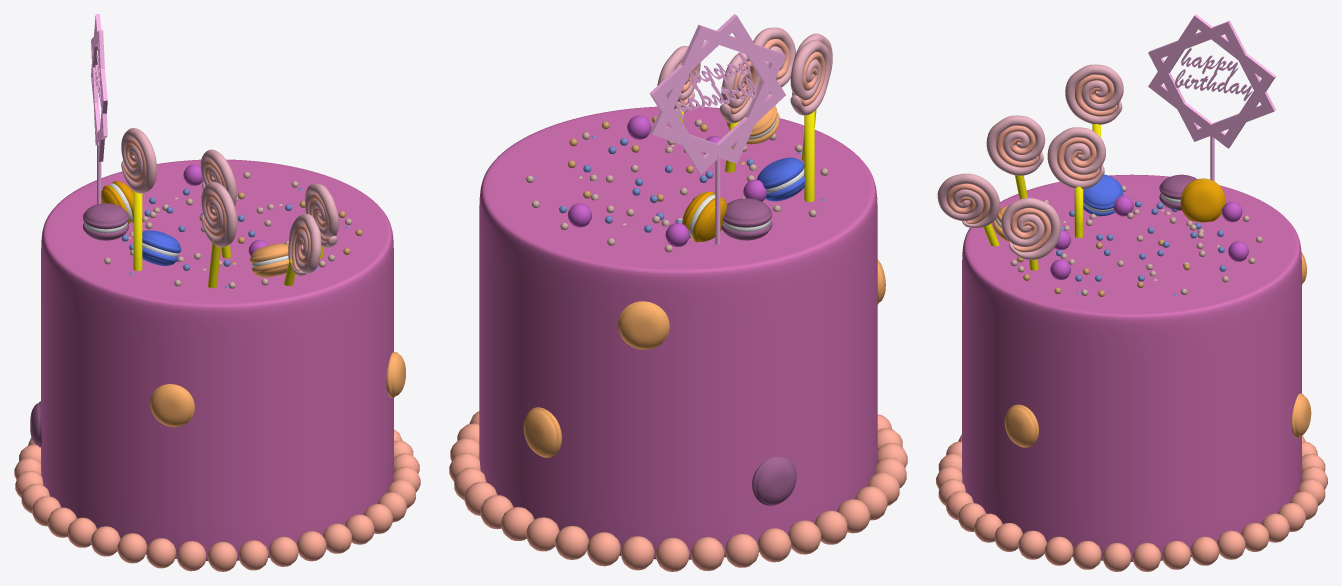
Rendered from Cake_Layer_1_Pink_Topper2_SpiralCandy_NoDrip.glb.
3 renders of one model, left to right at view 1: azimuth 30°, elevation 25°; view 2: azimuth 150°, elevation 25°; view 3: azimuth 270°, elevation 25°, orthographic. The views are drawn at different scales.
Visible parts, largest first — view 1: Circle, Sphere, Cylinder.006, Torus.005, Spiral.006, Spiral.004, Spiral.008, Torus.003, Spiral.010, Torus.013, Sphere.004, Torus.011 (+7 smaller); view 2: Circle, Sphere, Cylinder.006, Torus.009, Spiral.004, Torus.010, Torus.003, Torus.007, Torus.013, Sphere.004, Torus.001, Spiral.002 (+6 smaller); view 3: Circle, Sphere, Cylinder.006, Spiral.002, Spiral.010, Spiral.006, Spiral.004, Spiral.008, Torus.001, Torus.006, Sphere.004, Torus.013 (+9 smaller).
Boxes of the visible parts, bbox=[...] form: Circle: bbox=[41, 159, 393, 560]; Sphere: bbox=[14, 429, 420, 571]; Cylinder.006: bbox=[91, 14, 107, 204]; Torus.005: bbox=[150, 384, 194, 427]; Spiral.006: bbox=[201, 182, 237, 247]; Spiral.004: bbox=[121, 128, 156, 193]; Spiral.008: bbox=[288, 213, 321, 275]; Torus.003: bbox=[83, 203, 128, 240]; Spiral.010: bbox=[305, 183, 339, 247]; Torus.013: bbox=[142, 230, 181, 265]; Sphere.004: bbox=[104, 172, 351, 288]; Torus.011: bbox=[249, 243, 288, 277]; Circle: bbox=[479, 106, 877, 559]; Sphere: bbox=[449, 411, 907, 571]; Cylinder.006: bbox=[649, 14, 785, 244]; Torus.009: bbox=[617, 301, 669, 349]; Spiral.004: bbox=[790, 40, 830, 115]; Torus.010: bbox=[752, 457, 796, 505]; Torus.003: bbox=[721, 198, 772, 240]; Torus.007: bbox=[523, 407, 561, 457]; Torus.013: bbox=[757, 157, 805, 201]; Sphere.004: bbox=[526, 119, 828, 252]; Torus.001: bbox=[682, 191, 727, 242]; Spiral.002: bbox=[719, 52, 760, 123]; Circle: bbox=[962, 174, 1301, 561]; Sphere: bbox=[936, 434, 1327, 571]; Cylinder.006: bbox=[1148, 14, 1275, 181]; Spiral.002: bbox=[1047, 127, 1105, 189]; Spiral.010: bbox=[1001, 197, 1060, 259]; Spiral.006: bbox=[986, 115, 1045, 175]; Spiral.004: bbox=[1065, 64, 1123, 124]; Spiral.008: bbox=[937, 173, 999, 227]; Torus.001: bbox=[1180, 178, 1225, 222]; Torus.006: bbox=[1004, 404, 1038, 447]; Sphere.004: bbox=[1010, 185, 1262, 295]; Torus.013: bbox=[1083, 174, 1123, 215].
Size of the model in its own units: 0.1712 by 0.213 by 0.1718.
